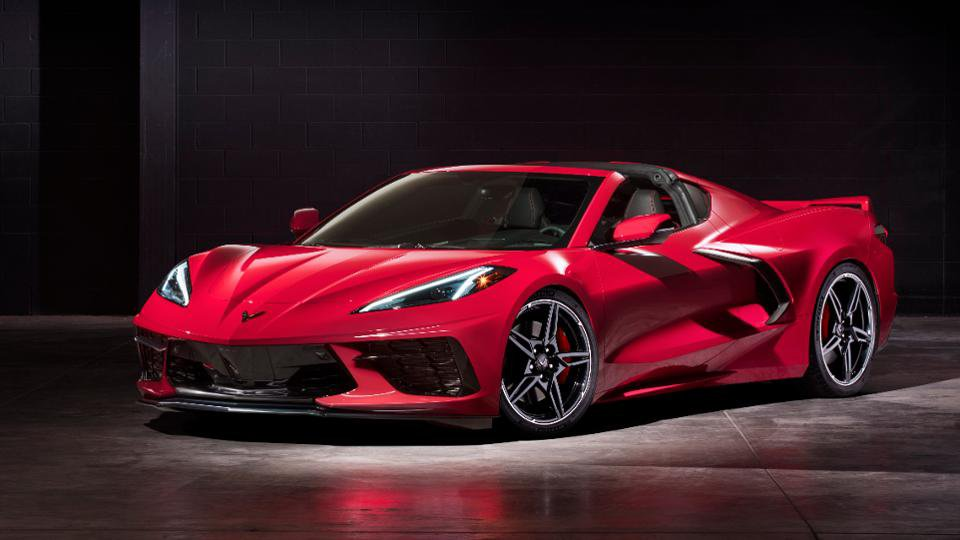car: (136, 160, 903, 432)
